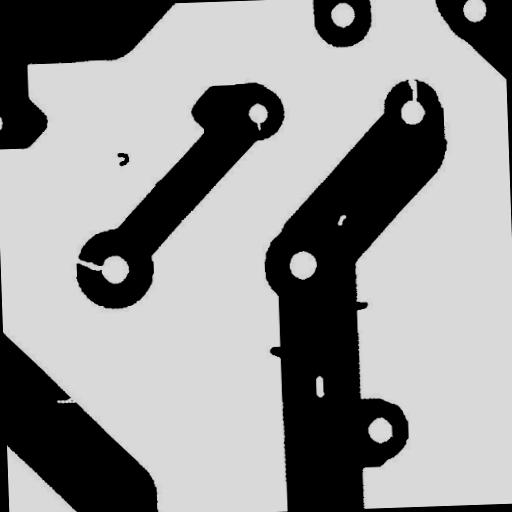copper: (109, 144, 136, 173)
mousebite: (48, 389, 83, 410), (249, 113, 268, 138)
open: (64, 248, 110, 279), (400, 71, 424, 112)
pin-hole: (308, 367, 332, 405), (329, 206, 354, 232)
spur: (262, 338, 292, 366), (346, 293, 376, 317)
